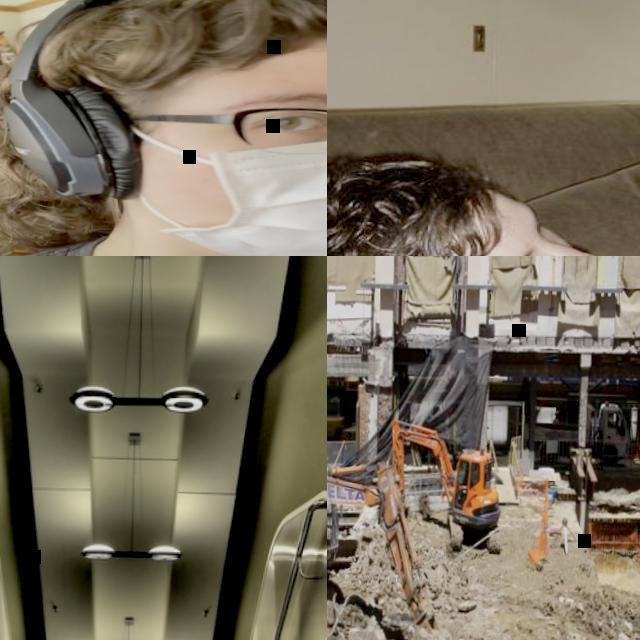machinery: (327, 469, 458, 640), (386, 414, 506, 558), (523, 399, 631, 466)
mask: (112, 121, 327, 256)
no_helmet: (42, 0, 327, 95), (327, 140, 506, 256)
person: (0, 0, 327, 256), (327, 14, 640, 256)
safety_cone: (541, 477, 550, 526)
